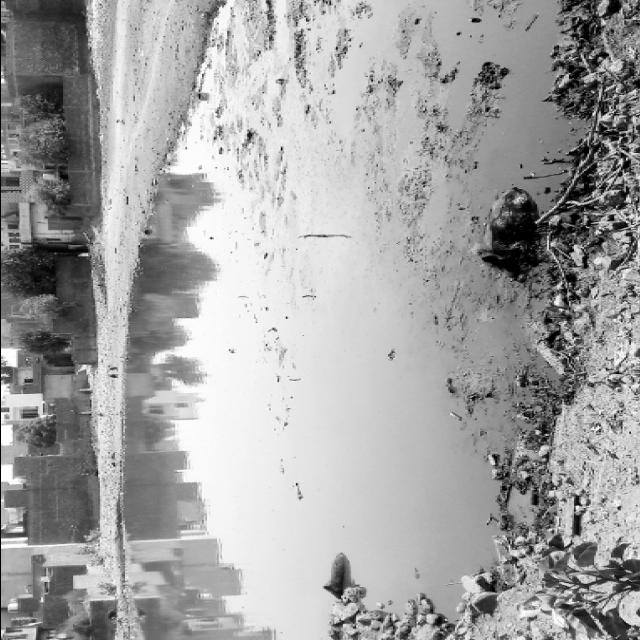Breeding Place: (104, 0, 610, 640)
